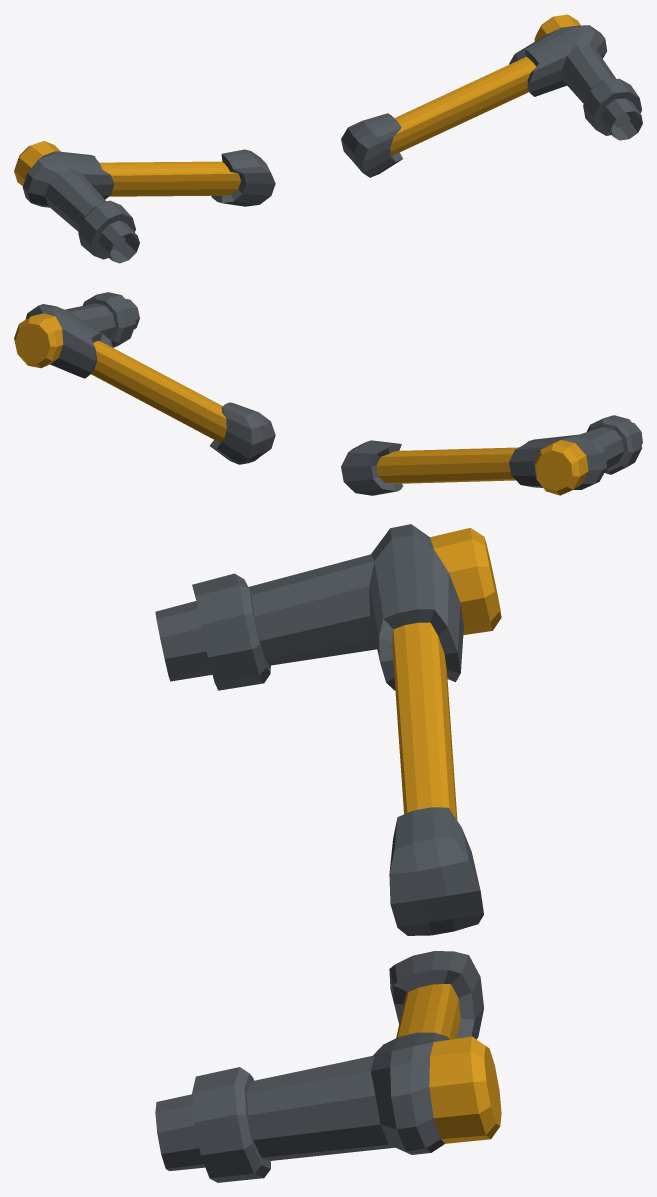
File: Personal_Vehicle_02_Handle_Bars_Yellow.fbx
The picture shows the model from 3 angles, top to bottom: view 1: azimuth 30°, elevation 25°; view 2: azimuth 150°, elevation 25°; view 3: azimuth 270°, elevation 25°; orthographic projection. The views are drawn at different scales.
Parts seen in each view (by area): view 1: Personal_Vehicle_02_Handle_Bars_Yellow; view 2: Personal_Vehicle_02_Handle_Bars_Yellow; view 3: Personal_Vehicle_02_Handle_Bars_Yellow.
Boxes of the visible parts, x1,y1,x2,y2 form: Personal_Vehicle_02_Handle_Bars_Yellow: (14,14,642,263); Personal_Vehicle_02_Handle_Bars_Yellow: (14,292,642,495); Personal_Vehicle_02_Handle_Bars_Yellow: (155,524,501,1182).
Bounding box in the file's own units: 50.49 × 8.54 × 13.05.
1 material, 1 textured.
